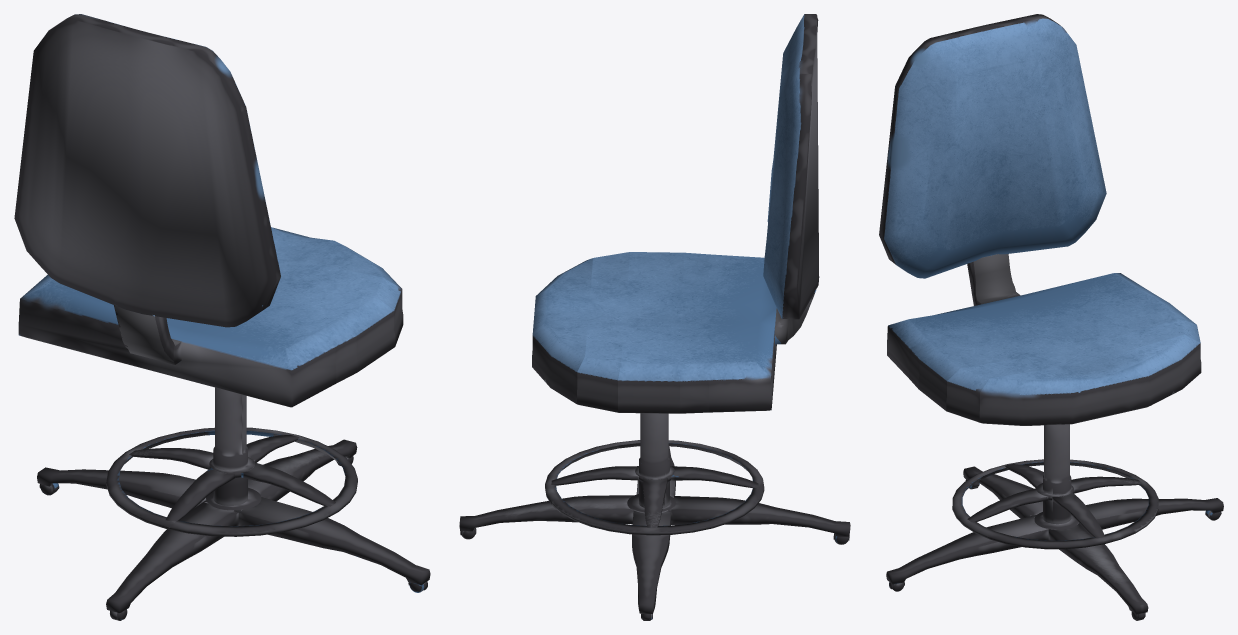
The model's file is office chair.fbx.
3 renders of one model, left to right at view 1: azimuth 30°, elevation 25°; view 2: azimuth 150°, elevation 25°; view 3: azimuth 270°, elevation 25°, orthographic. The views are drawn at different scales.
Visible parts, largest first — view 1: office chair.001; view 2: office chair.001; view 3: office chair.001.
Part boxes in pixels (x1,y1,x2,y2): office chair.001: (14, 14, 430, 620); office chair.001: (459, 14, 850, 620); office chair.001: (879, 14, 1223, 620).
Bounding box in the file's own units: 313 × 471 × 312.
